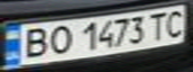1: (75, 19, 100, 51)
3: (127, 14, 151, 45)
4: (97, 17, 118, 50)
7: (112, 16, 133, 47)
B: (15, 25, 54, 60)
C: (160, 7, 190, 38)
O: (42, 24, 75, 56)
T: (145, 9, 172, 40)
